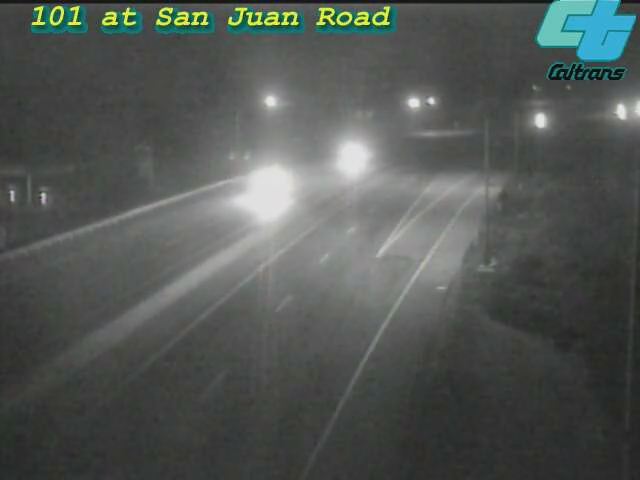vehicle: (226, 144, 306, 224), (307, 116, 387, 196), (515, 97, 565, 147), (595, 88, 640, 138)
